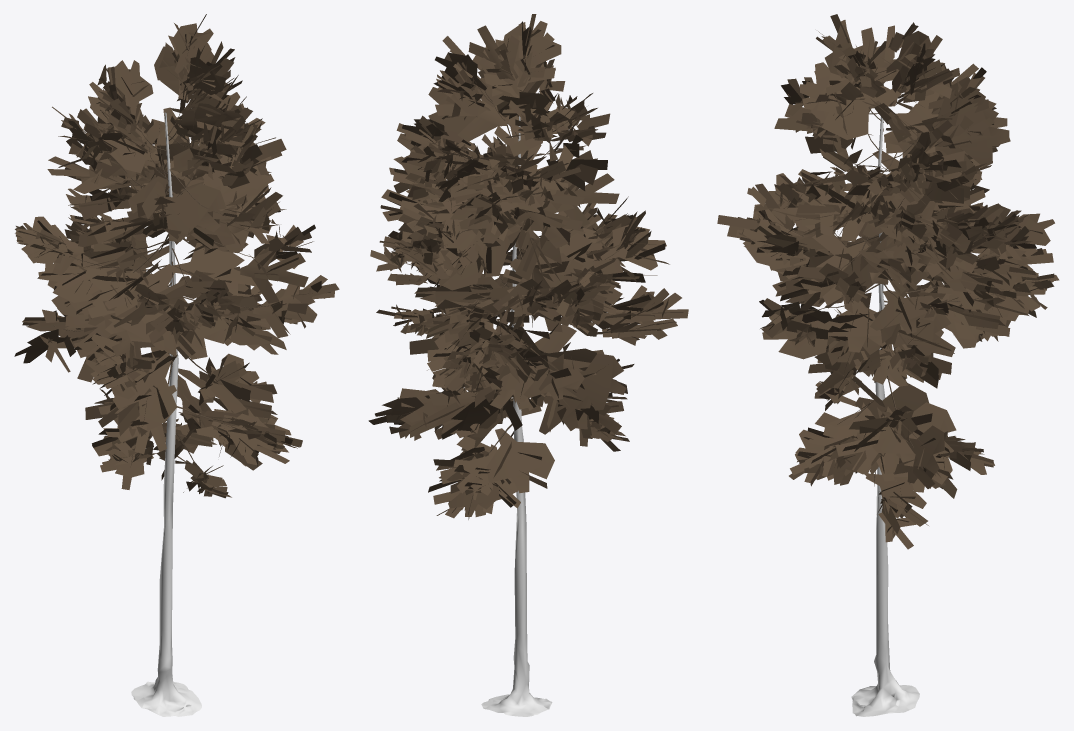
The model's file is fir_b_m.glb.
3 views of the same model, side by side, from view 1: azimuth 30°, elevation 25°; view 2: azimuth 150°, elevation 25°; view 3: azimuth 270°, elevation 25° (orthographic). The views are drawn at different scales.
Parts seen in each view (by area): view 1: fir_tree_01_b_LOD2.001; view 2: fir_tree_01_b_LOD2.001; view 3: fir_tree_01_b_LOD2.001.
Boxes of the visible parts, box(x1,y1,x2,y2) form: fir_tree_01_b_LOD2.001: box(14, 14, 339, 716); fir_tree_01_b_LOD2.001: box(368, 14, 688, 716); fir_tree_01_b_LOD2.001: box(717, 14, 1059, 716).
Bounding box in the file's own units: 5.71 × 14.2 × 6.31.
